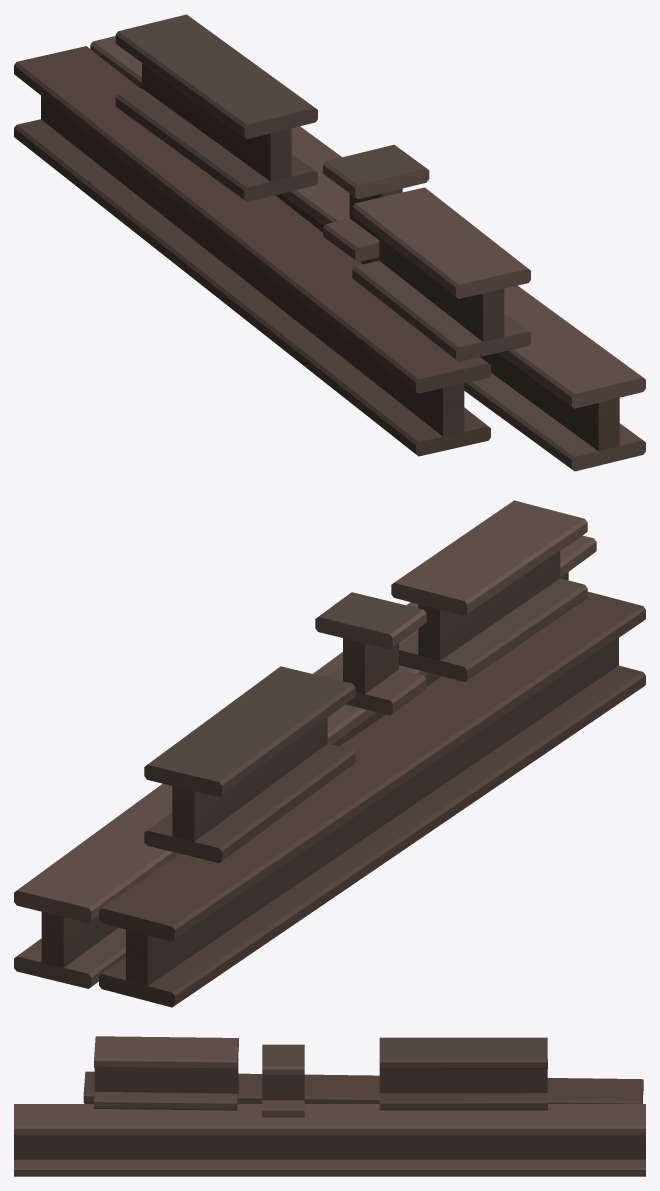
Rendered from Rails_C_4_1.fbx.
3 views of the same model, one above another, from view 1: azimuth 30°, elevation 25°; view 2: azimuth 150°, elevation 25°; view 3: azimuth 270°, elevation 25° (orthographic). The views are drawn at different scales.
Parts seen in each view (by area): view 1: Rails_C_4_1; view 2: Rails_C_4_1; view 3: Rails_C_4_1.
Part boxes in pixels (x1,y1,x2,y2): Rails_C_4_1: [14, 14, 645, 471]; Rails_C_4_1: [14, 500, 645, 1007]; Rails_C_4_1: [14, 1036, 645, 1176].
Bounding box in the file's own units: 88.98 × 74.86 × 423.
